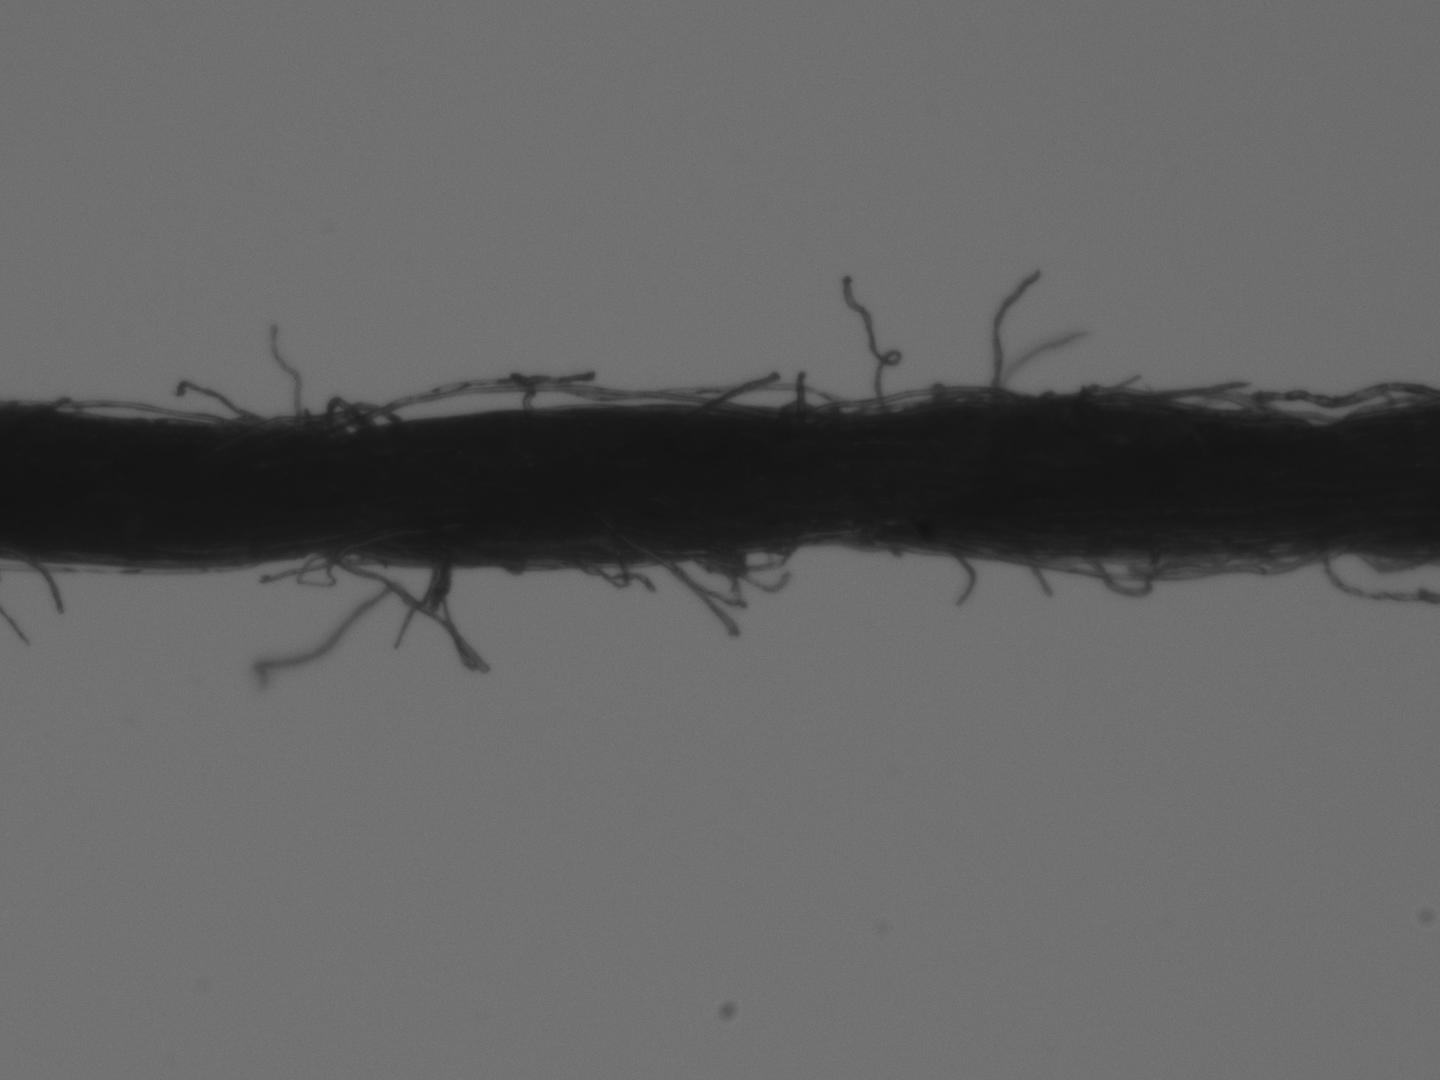loop_fiber: (304, 370, 777, 444), (285, 543, 497, 675), (632, 535, 811, 613), (1247, 379, 1433, 433), (1166, 538, 1342, 584), (1079, 542, 1163, 600), (1355, 546, 1432, 577)
protruding_fiber: (981, 263, 1057, 411), (176, 374, 273, 433), (17, 555, 70, 616)
